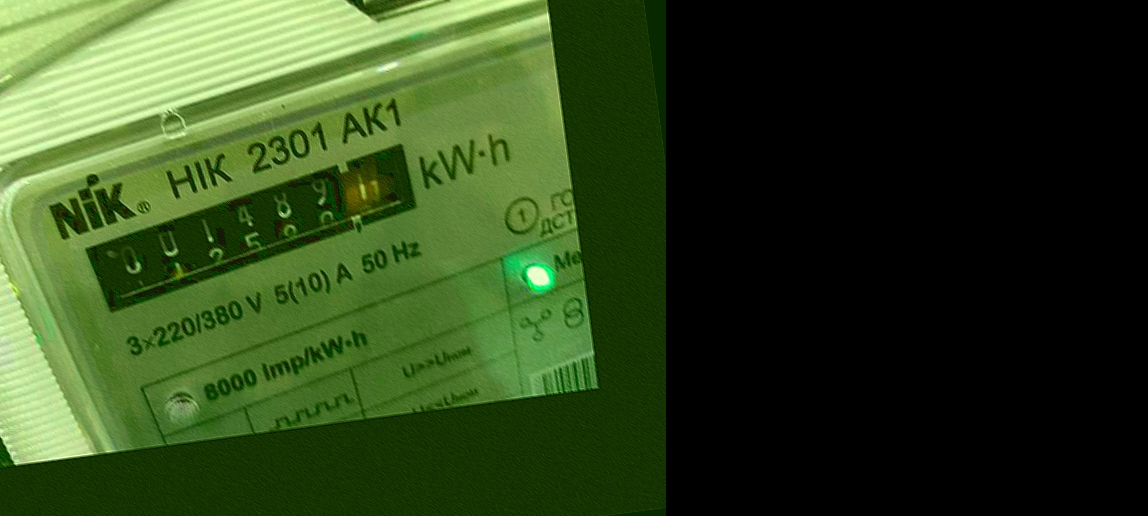0: (151, 221, 182, 260), (116, 240, 144, 278)
1: (348, 163, 372, 203), (194, 212, 218, 245)
4: (231, 196, 257, 230)
8: (269, 183, 295, 222)
9: (307, 172, 331, 207)
screen: (63, 128, 455, 327)
